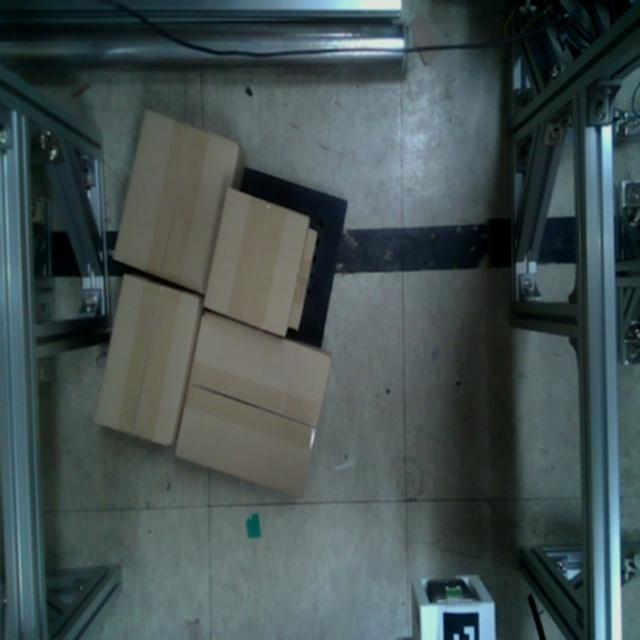box: (171, 308, 335, 504), (110, 106, 244, 299), (91, 269, 206, 450), (200, 187, 314, 341)
